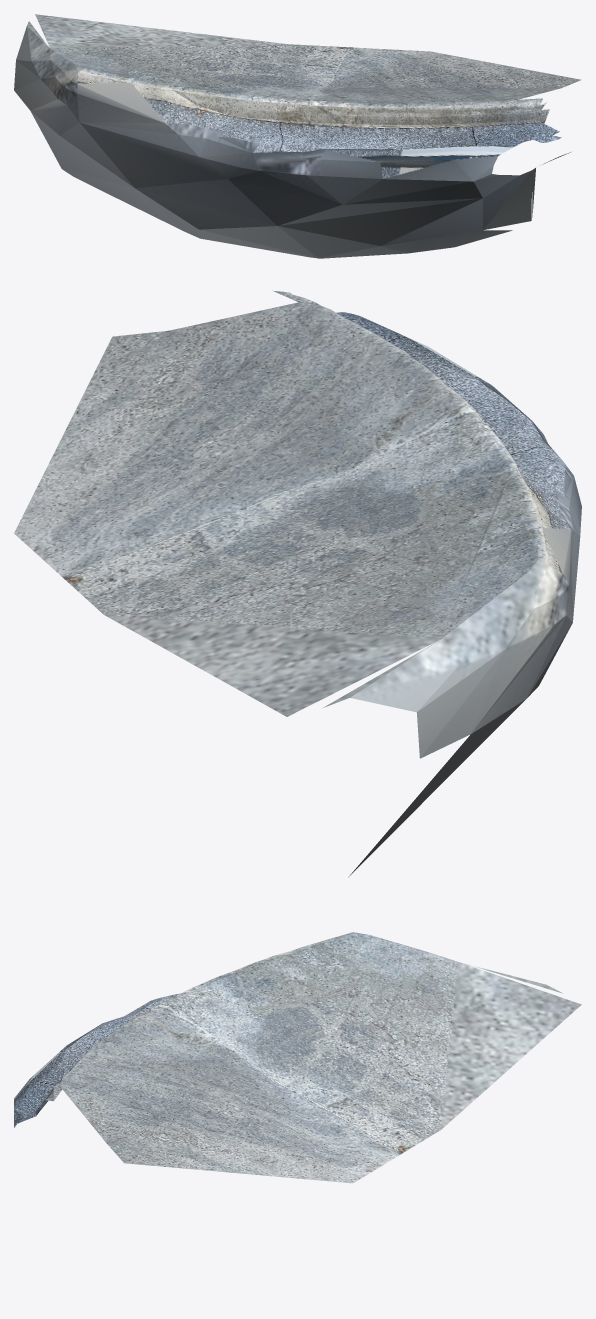
3 renders of one model, top to bottom at view 1: azimuth 30°, elevation 25°; view 2: azimuth 150°, elevation 25°; view 3: azimuth 270°, elevation 25°, orthographic. The views are drawn at different scales.
Size of the model in its own units: 1.86 by 0.7633 by 2.11.
1 material, 1 textured.
